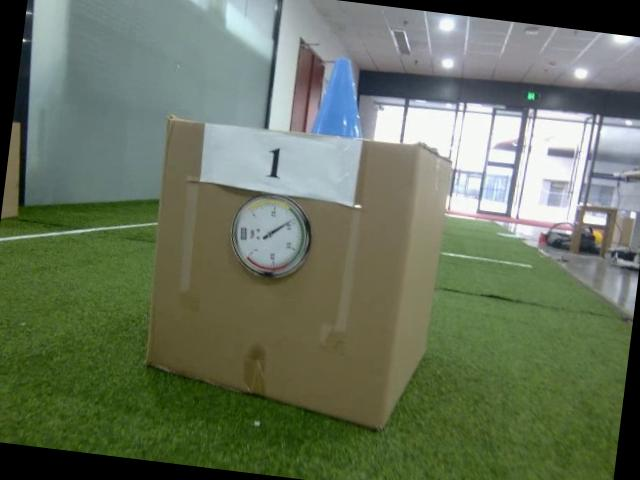1: (260, 144, 286, 184)
Dashboard: (224, 186, 316, 286)
blue_barrel: (308, 54, 375, 142)
ssi: (240, 224, 248, 242)
